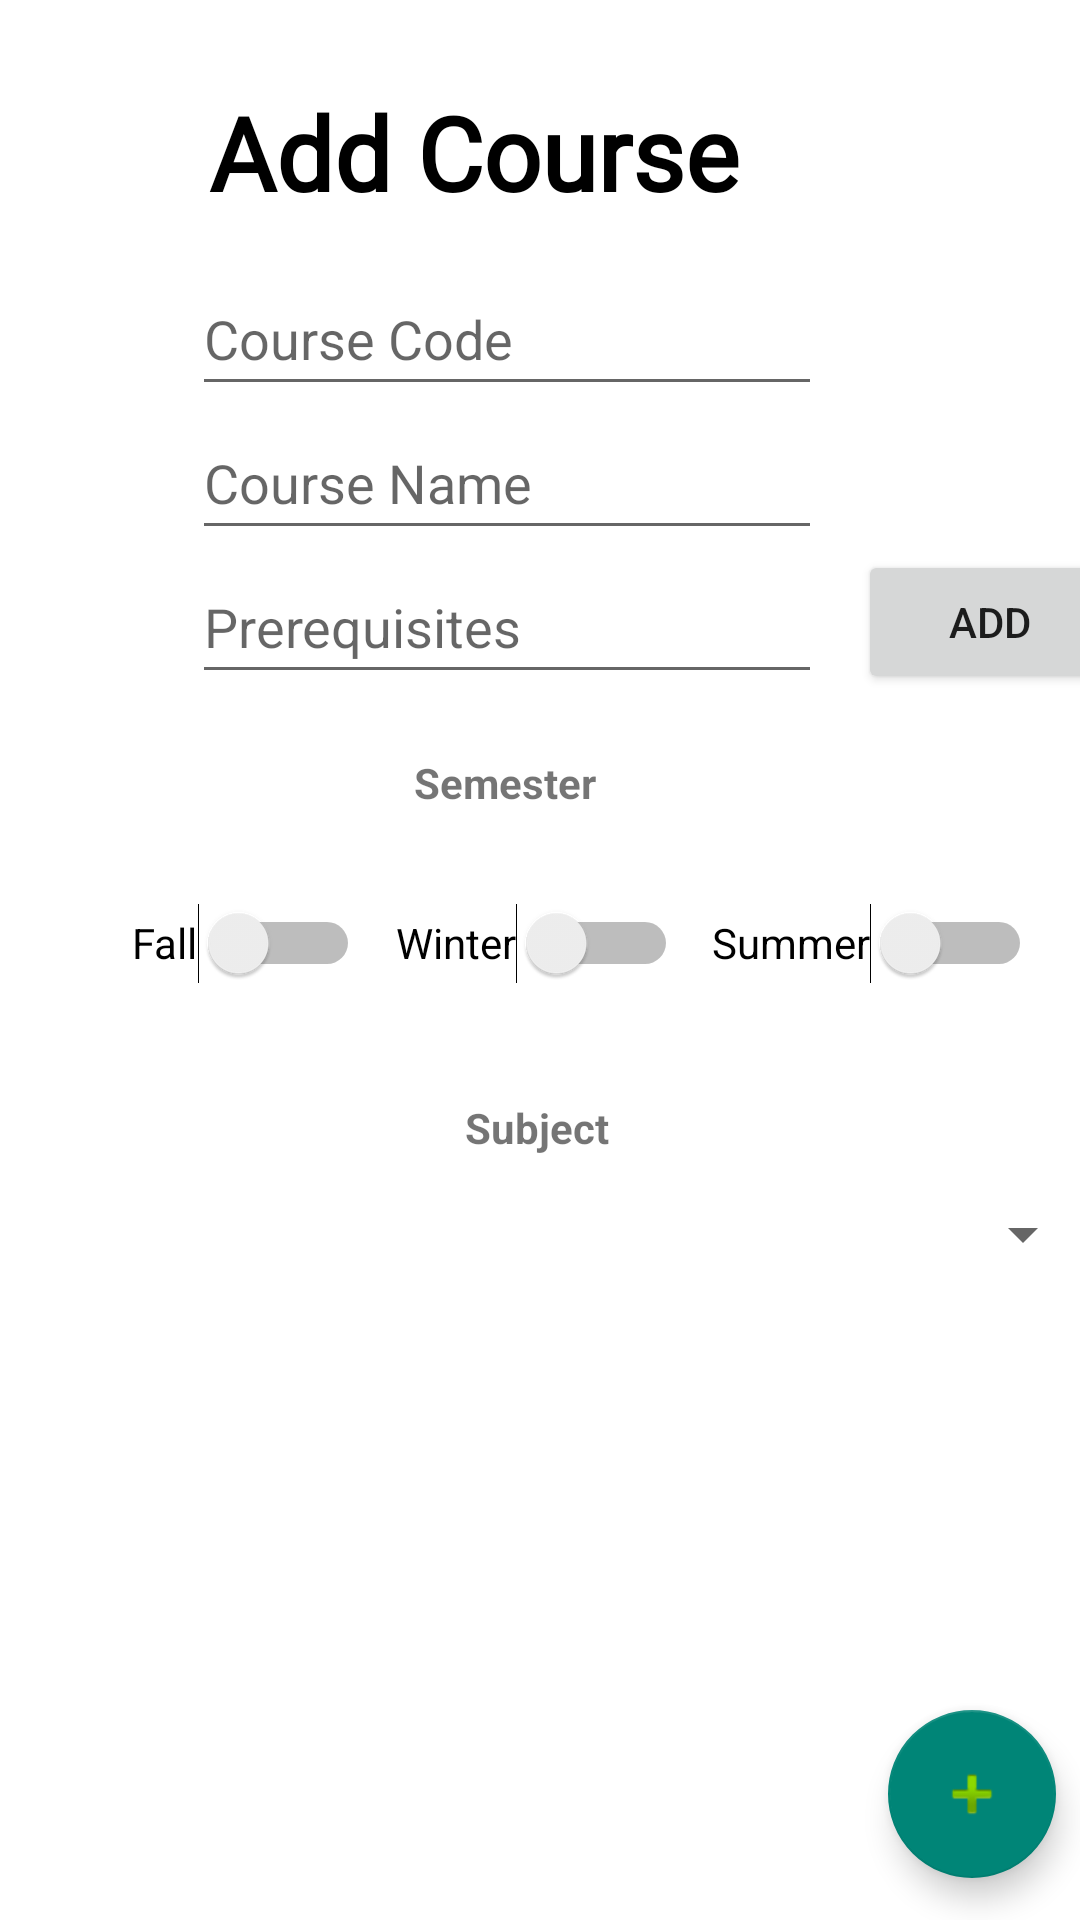

Where icons sit on this 1080 × 1920 app screen, as rect(x1, y1, x2, y2):
add: rect(888, 1710, 1056, 1878)
